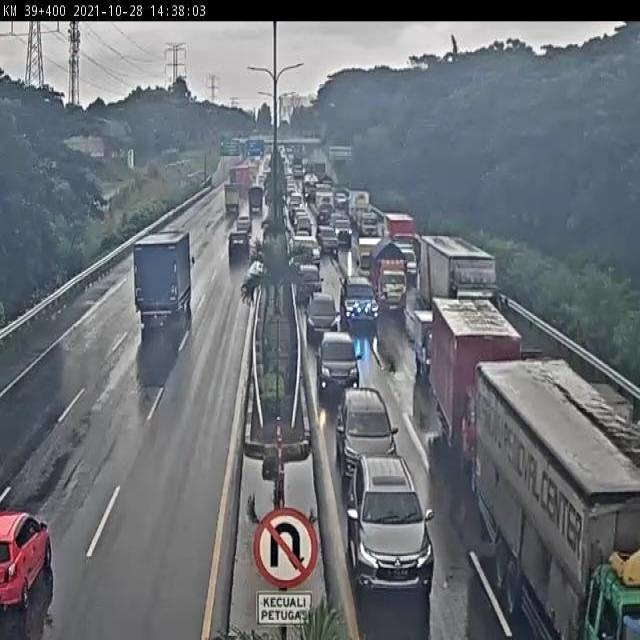ARABA: (345, 451, 442, 600), (0, 499, 69, 616), (332, 389, 405, 483), (312, 327, 364, 404), (333, 272, 381, 337), (301, 289, 345, 355), (392, 237, 422, 280), (297, 264, 323, 309), (225, 228, 253, 267), (232, 212, 260, 235)
KAMYONET: (368, 237, 411, 316), (218, 179, 244, 216), (246, 181, 265, 215)
TIR: (463, 357, 640, 640), (427, 294, 529, 486), (418, 225, 508, 315), (125, 225, 197, 332)
